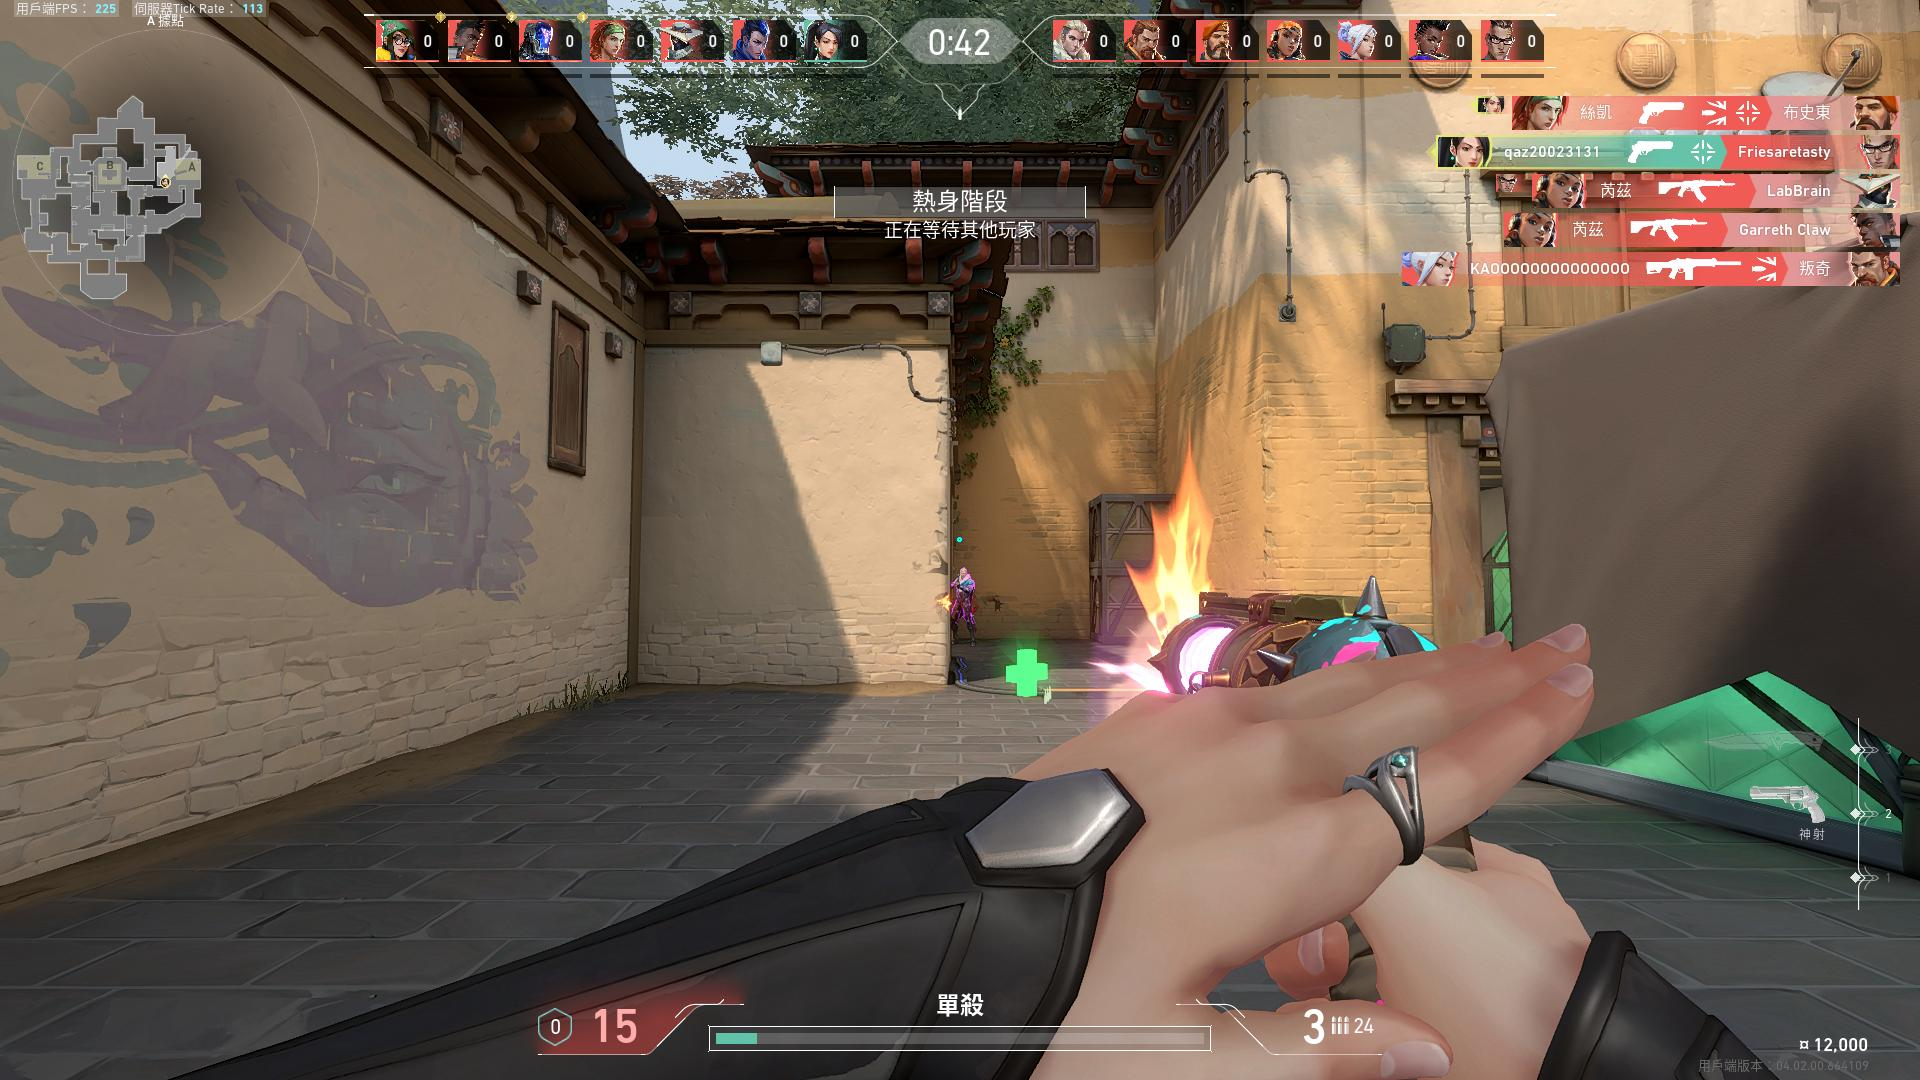enemyBody: (956, 579, 971, 605)
enemyHead: (961, 571, 967, 578)
